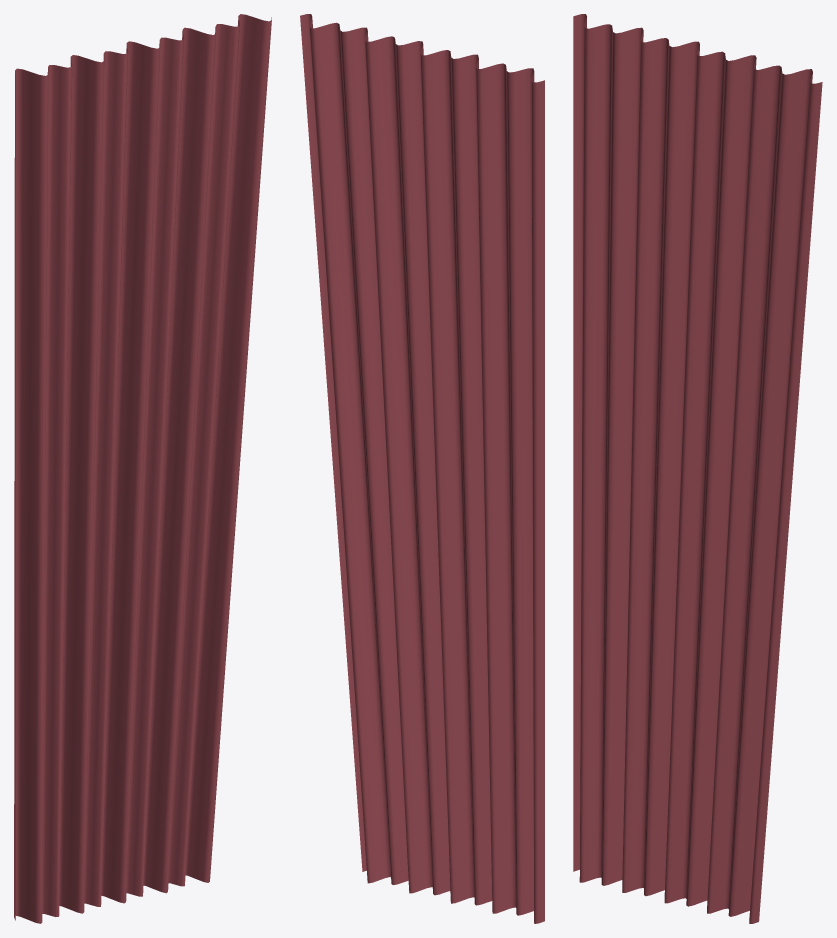
File: curtain.glb
The picture shows the model from 3 angles, left to right: view 1: azimuth 30°, elevation 25°; view 2: azimuth 150°, elevation 25°; view 3: azimuth 330°, elevation 25°; orthographic projection.
Parts seen in each view (by area): view 1: curtain; view 2: curtain; view 3: curtain.
Part boxes in pixels (x1,y1,x2,y2): curtain: (14, 14, 271, 923); curtain: (300, 14, 544, 923); curtain: (573, 14, 822, 923).
Size of the model in its own units: 1.15 by 3.7 by 0.1173.
